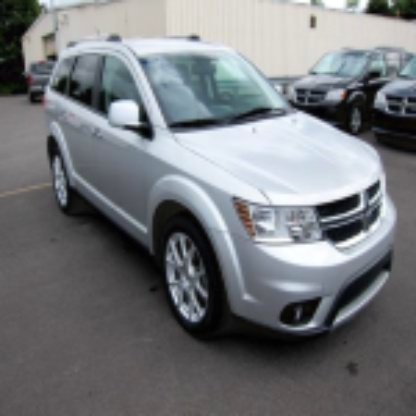Vehicle: (45, 34, 398, 343)
